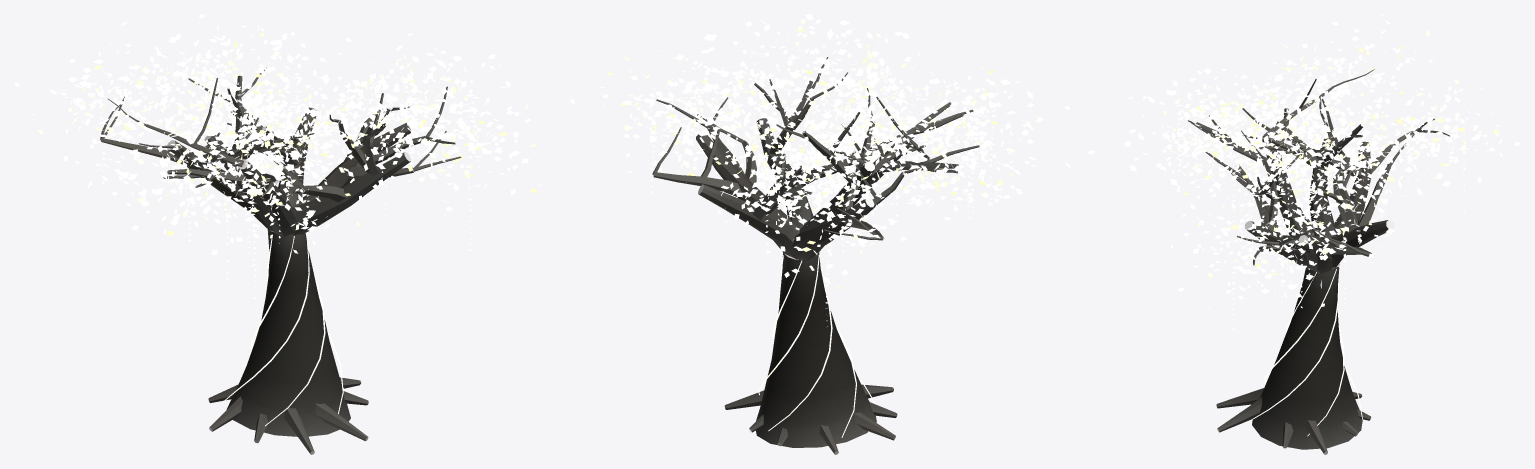
The model's file is holy_tree.glb.
The picture shows the model from 3 angles, left to right: view 1: azimuth 30°, elevation 25°; view 2: azimuth 150°, elevation 25°; view 3: azimuth 270°, elevation 25°; orthographic projection. The views are drawn at different scales.
Parts seen in each view (by area): view 1: main, glow; view 2: main, glow; view 3: main, glow.
Boxes of the visible parts, x1=… form: main: x1=100, y1=67, x2=461, y2=454; glow: x1=14, y1=14, x2=541, y2=426; main: x1=652, y1=57, x2=979, y2=454; glow: x1=570, y1=14, x2=1095, y2=437; main: x1=1188, y1=69, x2=1450, y2=454; glow: x1=1124, y1=14, x2=1520, y2=436.
Size of the model in its own units: 35.39 by 29.37 by 29.96.
Materials: 4 (1 with a texture image).
